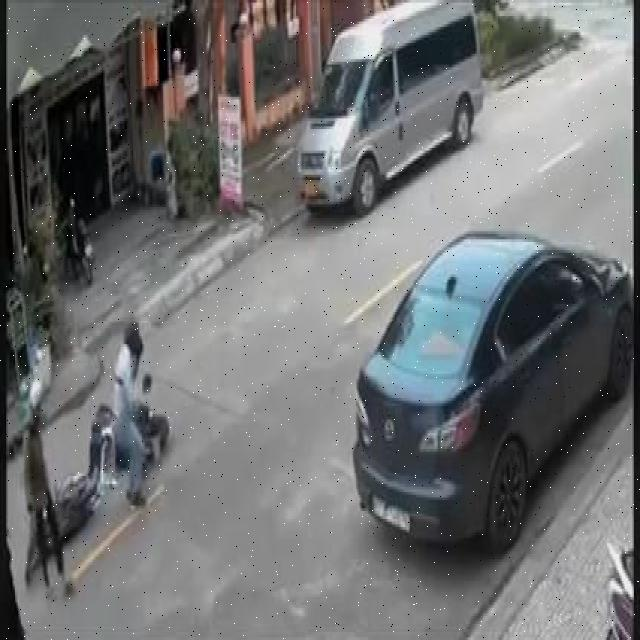accident: (15, 312, 172, 600)
